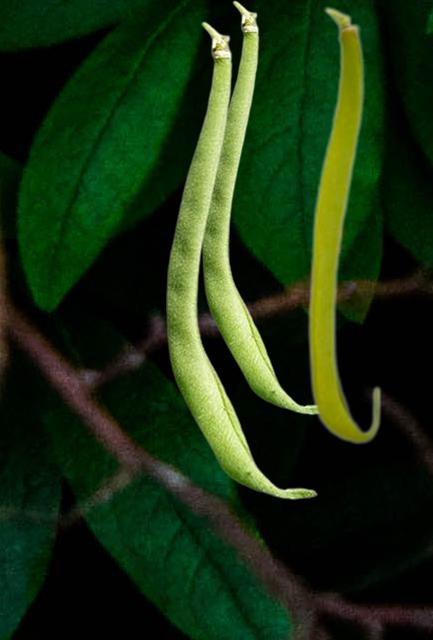french_bean: (166, 21, 317, 499), (202, 0, 314, 414), (306, 5, 381, 444)
